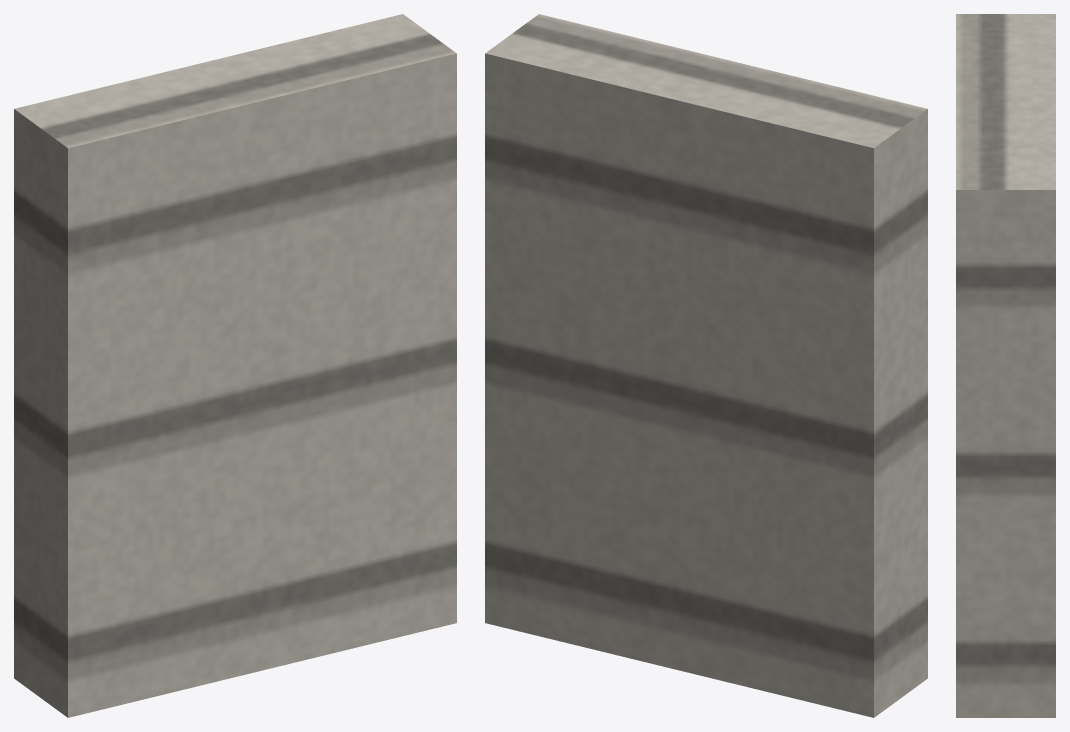
Rendered from buzzer_intercom_panel.glb.
The picture shows the model from 3 angles, left to right: view 1: azimuth 30°, elevation 25°; view 2: azimuth 150°, elevation 25°; view 3: azimuth 270°, elevation 25°; orthographic projection. The views are drawn at different scales.
Parts seen in each view (by area): view 1: buzzer_intercom_panel-col; view 2: buzzer_intercom_panel-col; view 3: buzzer_intercom_panel-col.
Boxes of the visible parts, x1,y1,x2,y2 form: buzzer_intercom_panel-col: (14,14,456,717); buzzer_intercom_panel-col: (485,14,927,717); buzzer_intercom_panel-col: (956,14,1055,717).
Bounding box in the file's own units: 0.25 × 0.35 × 0.06.
1 material, 1 textured.
